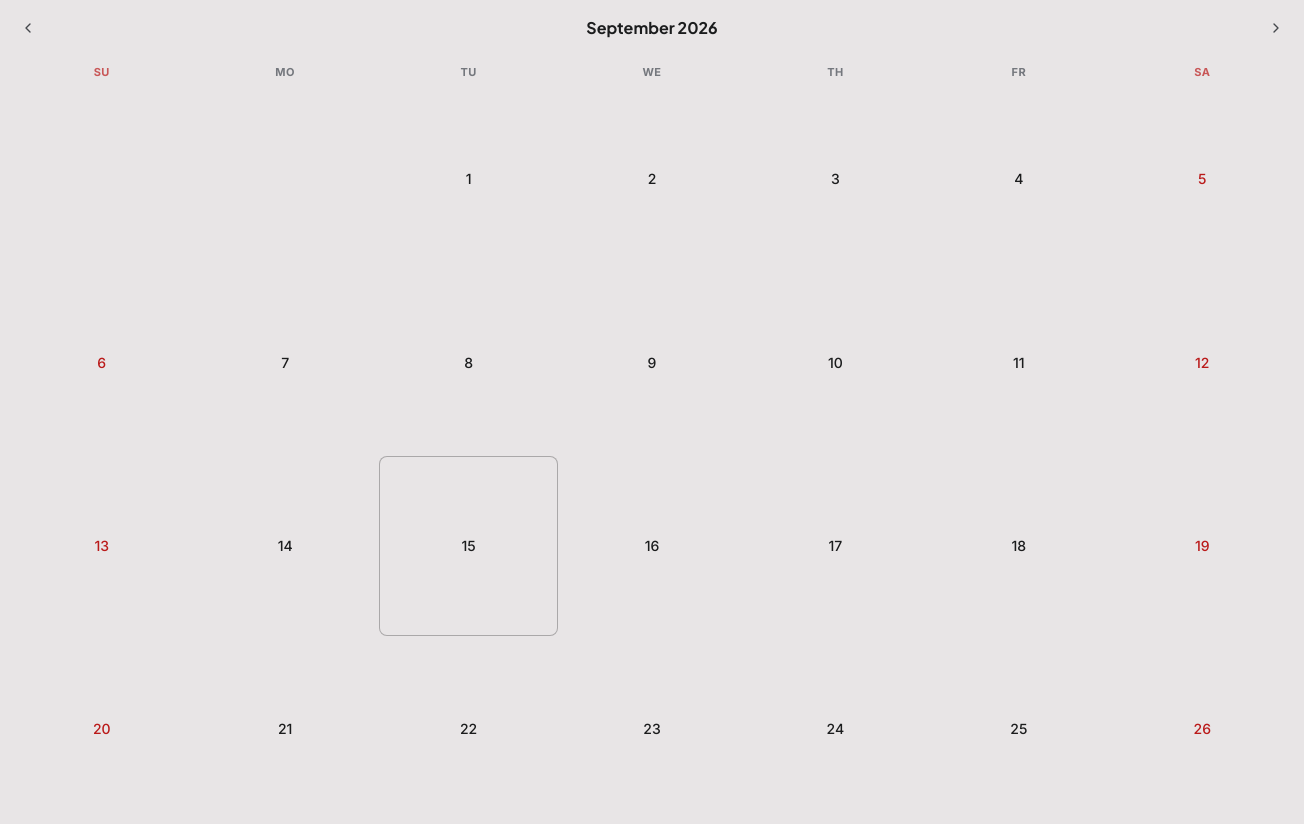
DateRangeCalendar minDate › keeps the forward limit measured from today, not from minDate
Click the button named "Next Month" at (1276, 28), box top-left (1260, 12), bottom-right (1292, 44)
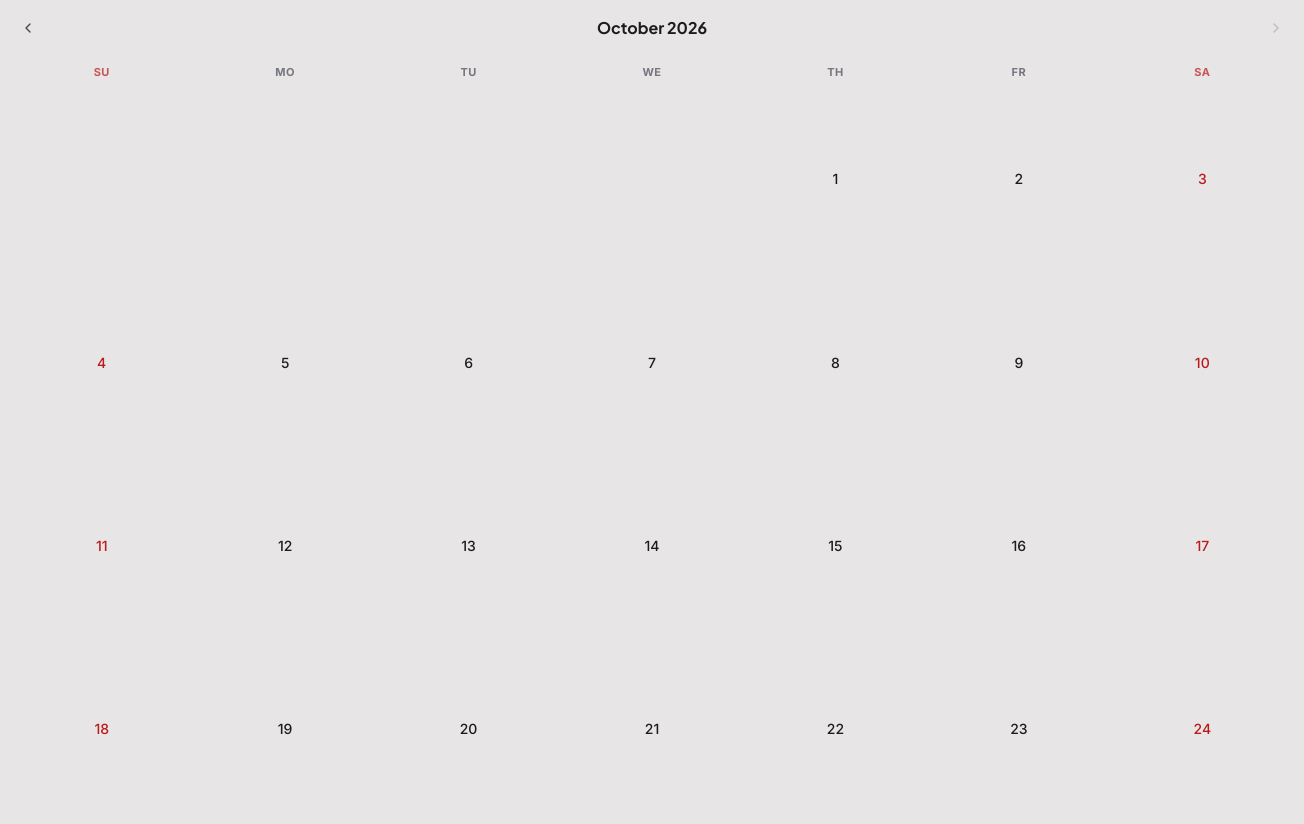
Expected: the text "October 2026" is shown, top-left (597, 15), bottom-right (707, 41)
